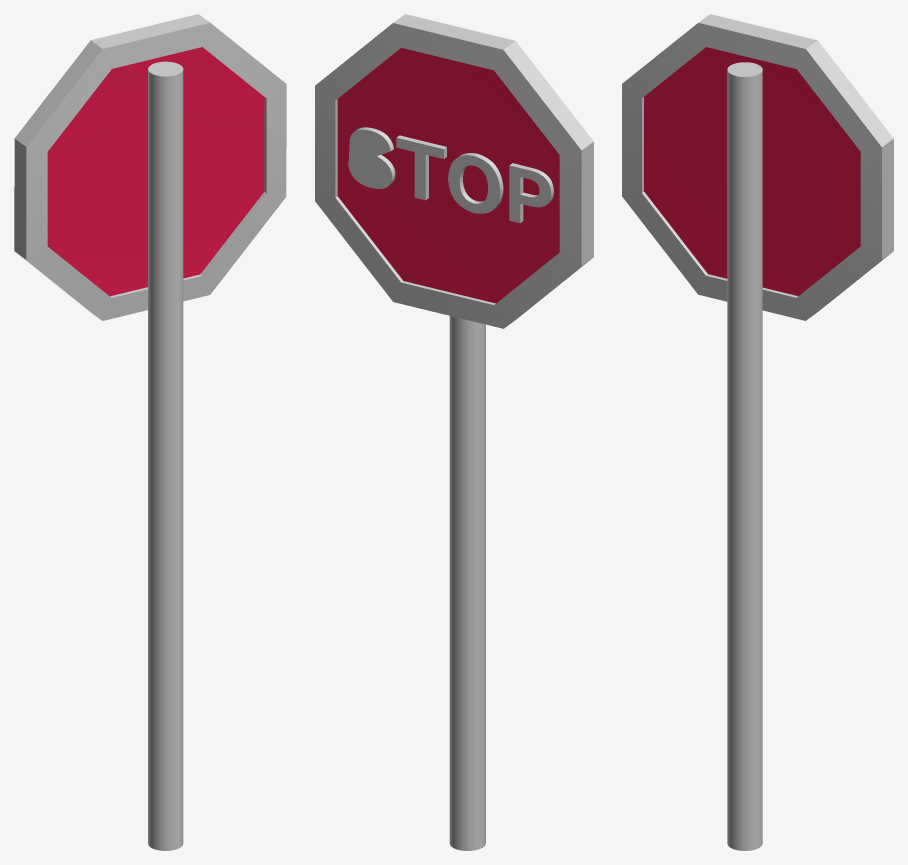
The model's file is stop_sign.obj.
3 views of the same model, side by side, from view 1: azimuth 30°, elevation 25°; view 2: azimuth 150°, elevation 25°; view 3: azimuth 330°, elevation 25° (orthographic). The views are drawn at different scales.
Visible parts, largest first — view 1: 立方体.1; view 2: 立方体.1; view 3: 立方体.1.
Boxes of the visible parts, x1,y1,x2,y2 form: 立方体.1: (14,14,286,850); 立方体.1: (315,14,593,850); 立方体.1: (622,14,893,850).
Size of the model in its own units: 167 by 493 by 33.57.
